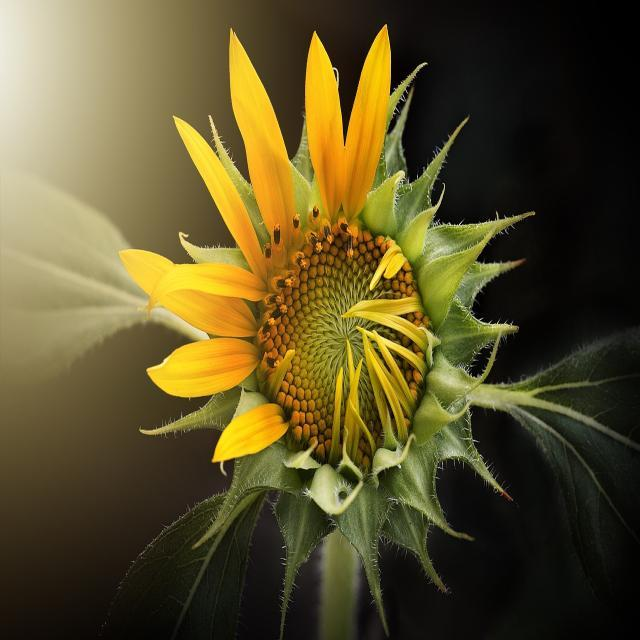sunflower: (118, 23, 424, 480)
